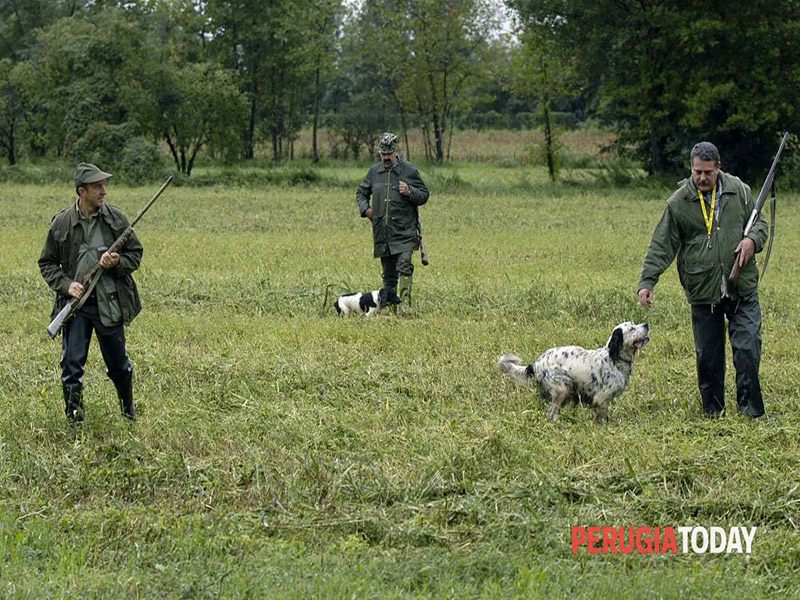cacciatore: (659, 130, 771, 427), (52, 167, 141, 423), (353, 133, 439, 311)
cane da caccia: (491, 316, 646, 430)
fucile: (723, 122, 791, 292)
